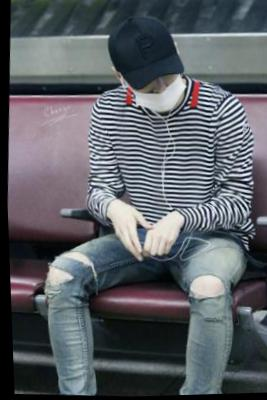WRONG: (129, 71, 185, 117)
